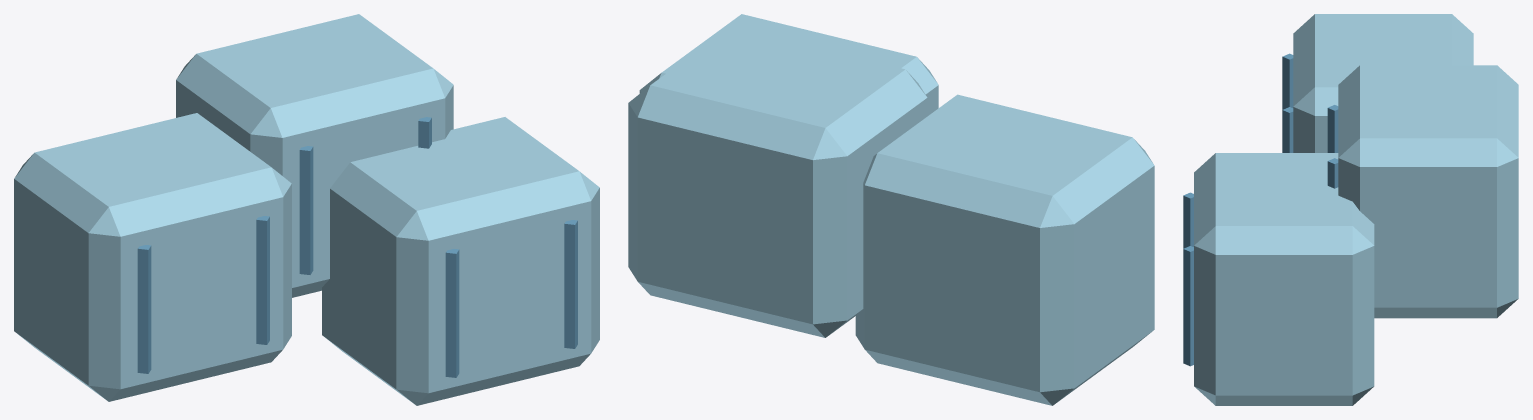
Rendered from res_furs.glb.
3 views of the same model, side by side, from view 1: azimuth 30°, elevation 25°; view 2: azimuth 150°, elevation 25°; view 3: azimuth 270°, elevation 25° (orthographic). The views are drawn at different scales.
Visible parts, largest first — view 1: res_furs; view 2: res_furs; view 3: res_furs.
Part boxes in pixels (bbox=[...]): res_furs: bbox=[14, 14, 599, 405]; res_furs: bbox=[628, 14, 1154, 405]; res_furs: bbox=[1183, 14, 1518, 405].
Bounding box in the file's own units: 0.27 × 0.145 × 0.186.
